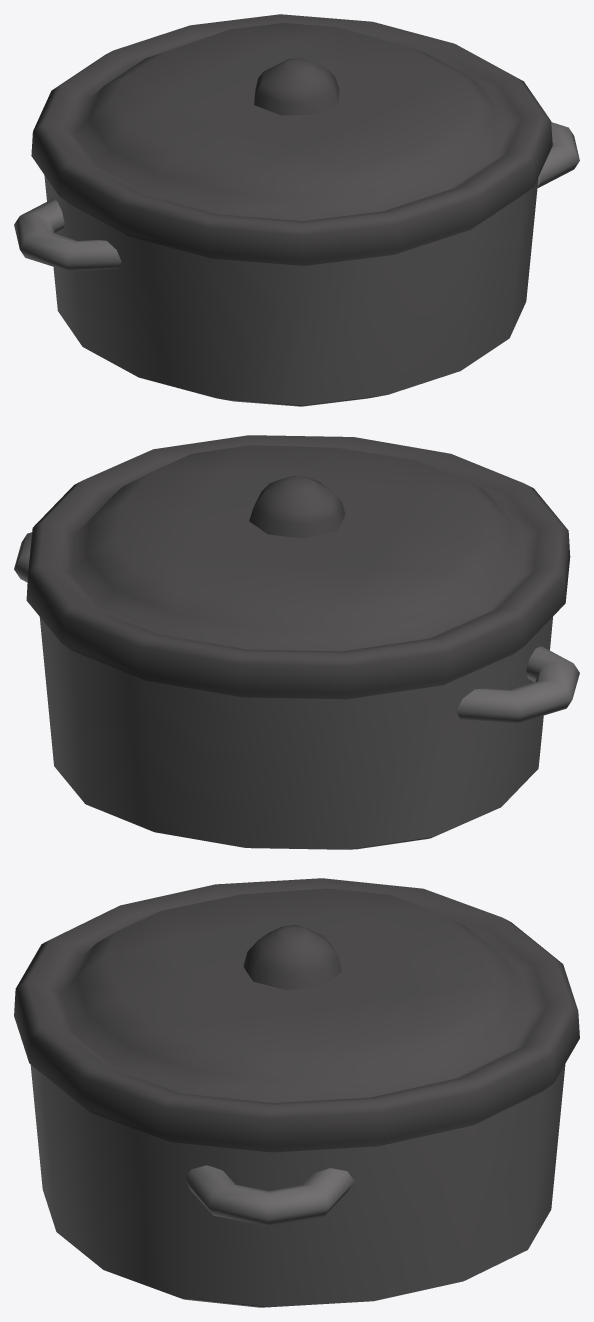
The model's file is Saucepan_1.glb.
The picture shows the model from 3 angles, top to bottom: view 1: azimuth 30°, elevation 25°; view 2: azimuth 150°, elevation 25°; view 3: azimuth 270°, elevation 25°; orthographic projection. The views are drawn at different scales.
Visible parts, largest first — view 1: Saucepan_1; view 2: Saucepan_1; view 3: Saucepan_1.
Boxes of the visible parts, <box> form: Saucepan_1: <box>14,14,579,406</box>; Saucepan_1: <box>14,435,579,849</box>; Saucepan_1: <box>14,878,579,1307</box>.
Size of the model in its own units: 0.2697 by 0.1238 by 0.224.
1 material, 1 textured.
